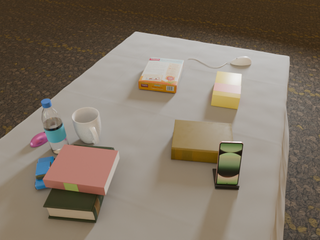book: (43, 145, 114, 223), (43, 145, 119, 196), (171, 120, 233, 163)
bottle: (41, 99, 69, 154)
box: (139, 57, 184, 93), (211, 71, 241, 109)
cup: (72, 107, 101, 144)
mouse: (30, 131, 48, 147), (231, 57, 251, 66)
phone: (216, 141, 243, 185)
toy_car: (35, 156, 55, 189)
